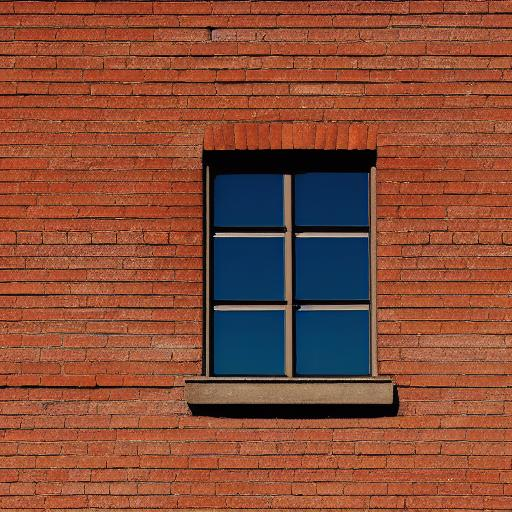Window: (185, 121, 398, 410)
